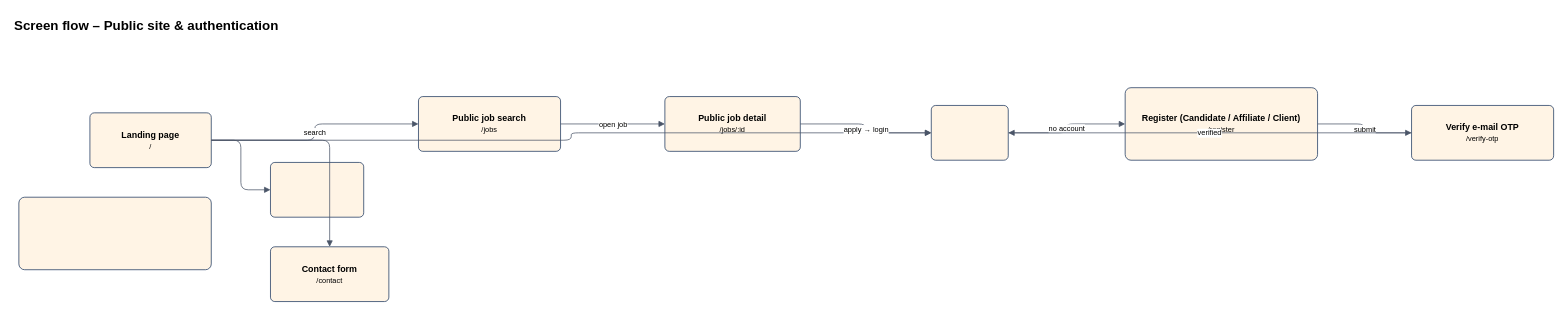
This 1567x315 diagram has some shape labels left out. Each missing label, with the centre of its shape:
"Login /login" belongs at (969,132).
"Services /services" belongs at (317,189).
"Submission consent (link in e-mail) /submission-consent" belongs at (114,233).
